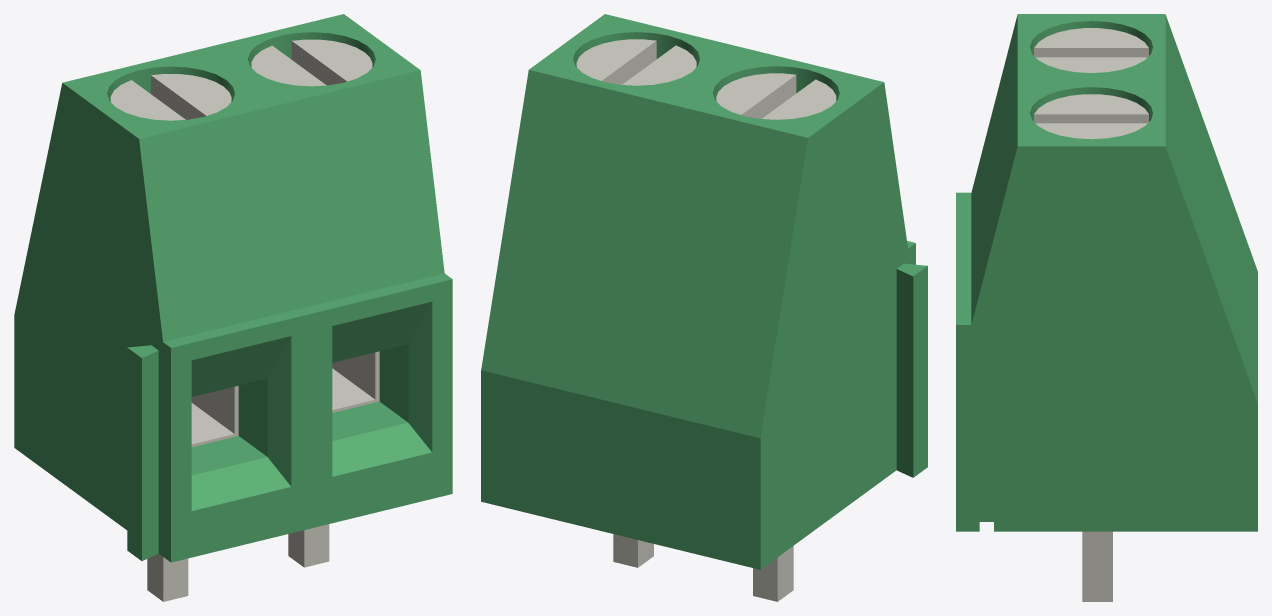
The model's file is TerminalBlock_Phoenix_MKDS-1,5-2-5.08_1x02_P5.08mm_Horizontal.glb.
3 renders of one model, left to right at view 1: azimuth 30°, elevation 25°; view 2: azimuth 150°, elevation 25°; view 3: azimuth 270°, elevation 25°, orthographic. The views are drawn at different scales.
Parts seen in each view (by area): view 1: PROBE; view 2: PROBE; view 3: PROBE.
Boxes of the visible parts, x1,y1,x2,y2 form: PROBE: (14,14,452,601); PROBE: (481,14,927,601); PROBE: (956,14,1257,601).
Size of the model in its own units: 0.0109 by 0.0173 by 0.0098.
